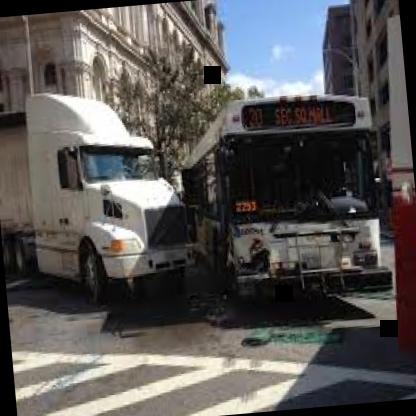accident: (21, 69, 401, 358)
